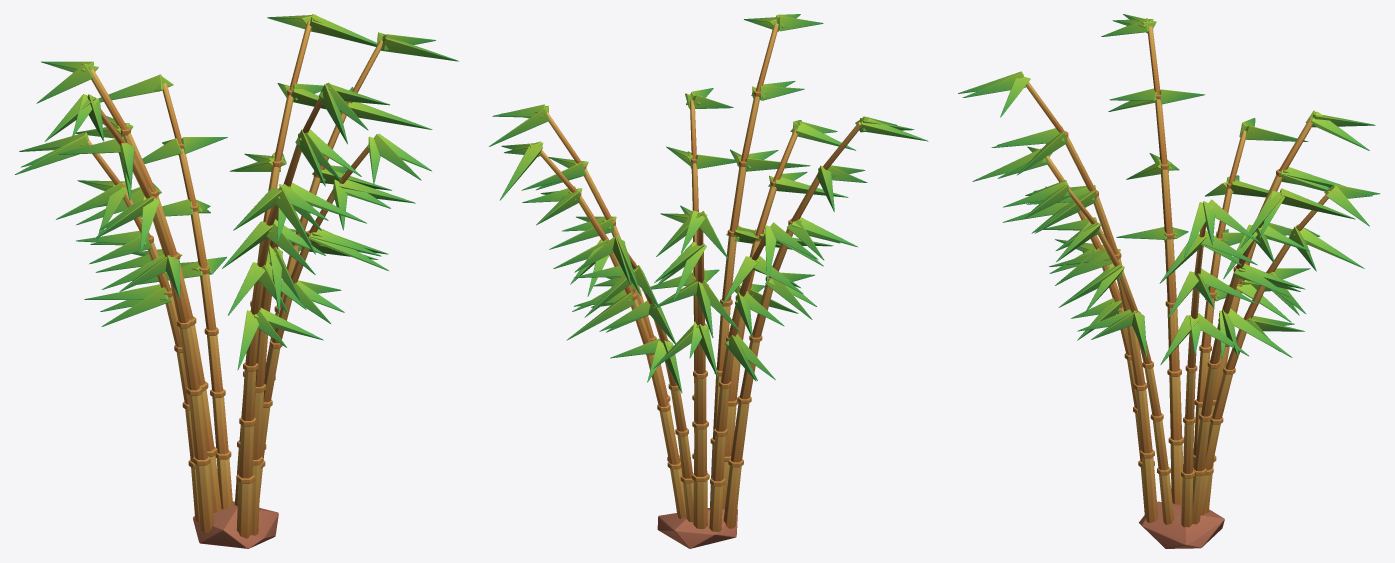
Rendered from bamboo_clump_b.glb.
3 renders of one model, left to right at view 1: azimuth 30°, elevation 25°; view 2: azimuth 150°, elevation 25°; view 3: azimuth 270°, elevation 25°, orthographic. The views are drawn at different scales.
Parts seen in each view (by area): view 1: bamboo_clump_b; view 2: bamboo_clump_b; view 3: bamboo_clump_b.
Boxes of the visible parts, x1,y1,x2,y2 form: bamboo_clump_b: (15, 14, 458, 548); bamboo_clump_b: (489, 14, 928, 548); bamboo_clump_b: (958, 14, 1380, 548).
Bounding box in the file's own units: 5.45 × 6.07 × 4.98.
1 material, 1 textured.
